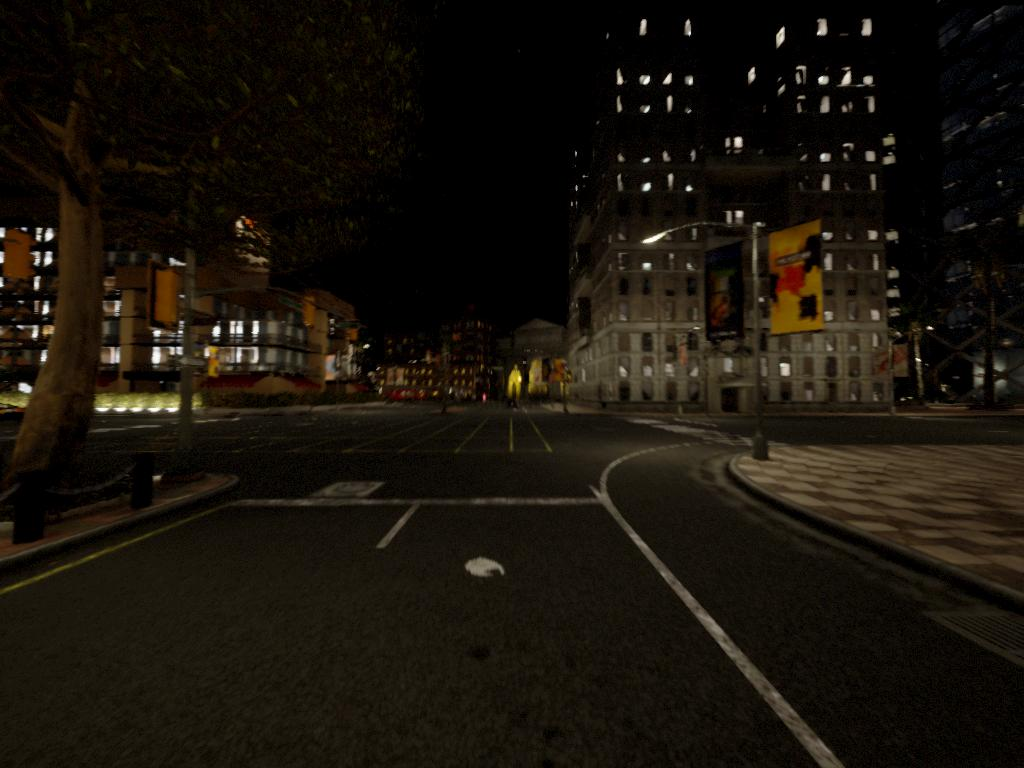traffic_light: (152, 267, 184, 326)
